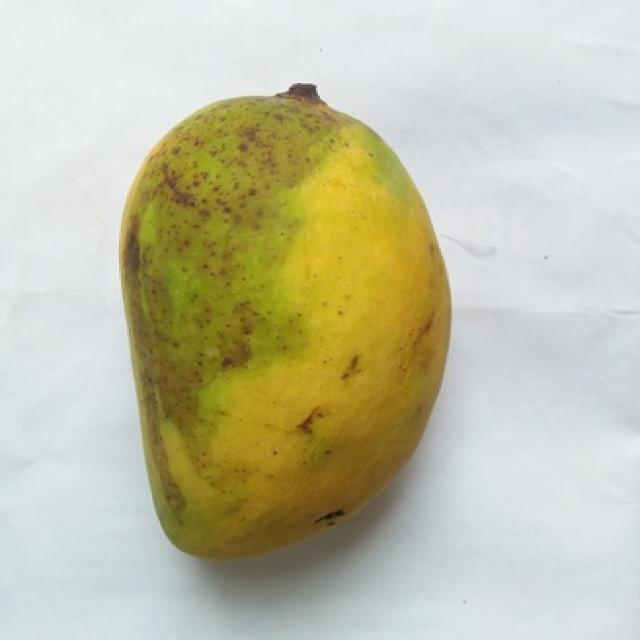Mango: (121, 85, 449, 557)
